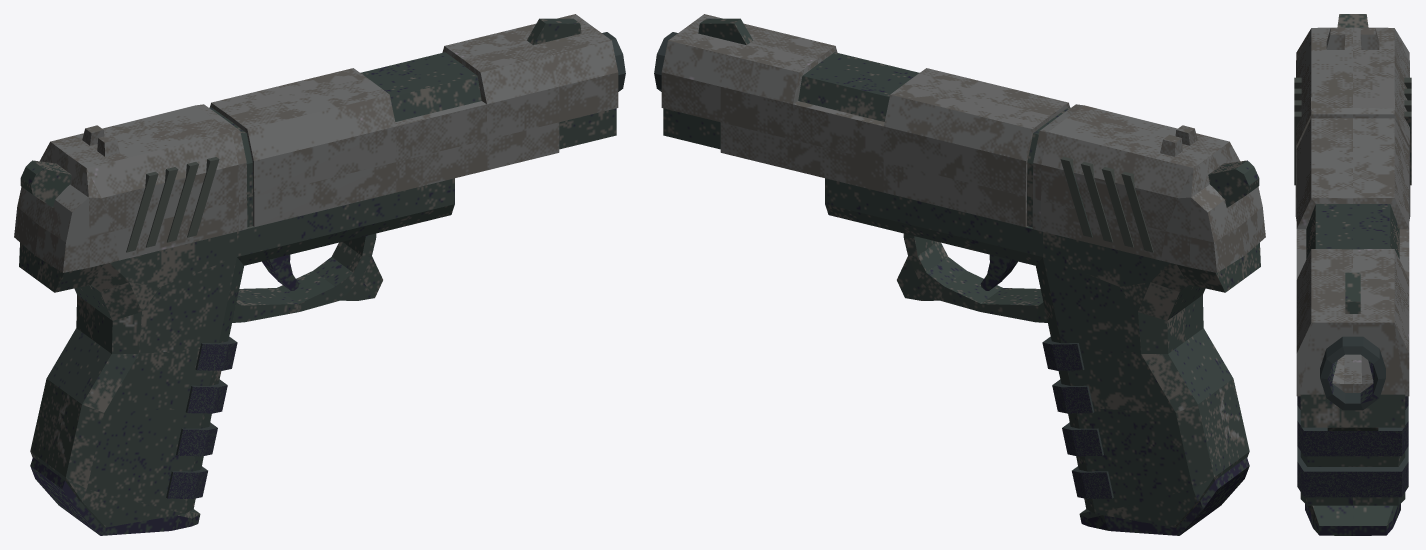
File: pixelpistol.glb
The picture shows the model from 3 angles, left to right: view 1: azimuth 30°, elevation 25°; view 2: azimuth 150°, elevation 25°; view 3: azimuth 270°, elevation 25°; orthographic projection. The views are drawn at different scales.
Visible parts, largest first — view 1: Pistol_5; view 2: Pistol_5; view 3: Pistol_5.
Part boxes in pixels (x1=…): Pistol_5: x1=14, y1=14, x2=625, y2=535; Pistol_5: x1=654, y1=14, x2=1265, y2=535; Pistol_5: x1=1294, y1=14, x2=1411, y2=535.
Size of the model in its own units: 1.82 by 1.2 by 0.2744.
Materials: 3 (3 with a texture image).
